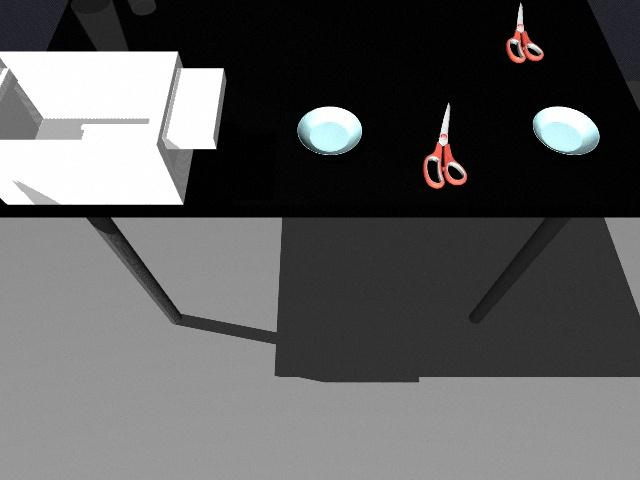cup: (78, 0, 124, 52)
plate: (530, 105, 601, 156), (295, 105, 364, 156)
scissors: (421, 101, 471, 191), (506, 0, 547, 65)
